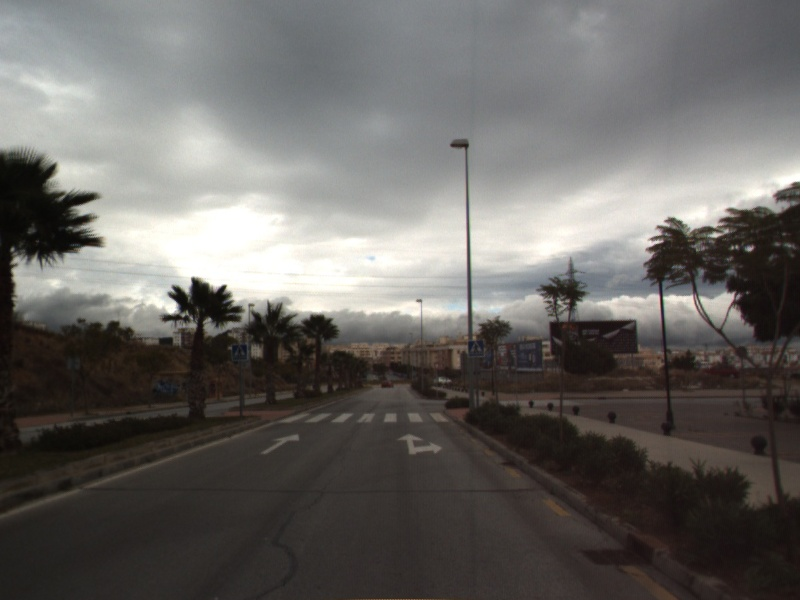STRAIGHT: (259, 432, 301, 456)
STRAIGHT_RIGHT: (395, 431, 444, 457)
